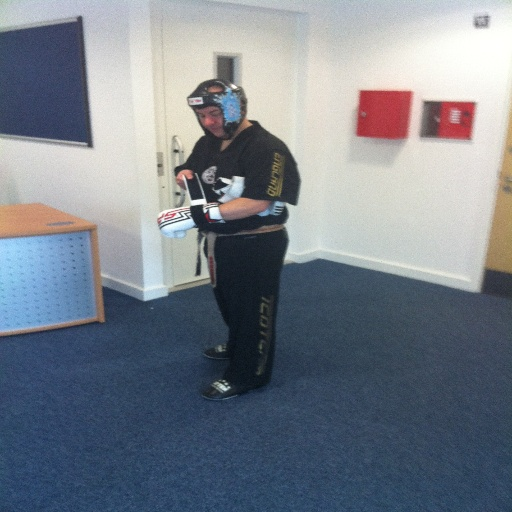hand: (151, 205, 194, 237), (174, 170, 196, 191)
